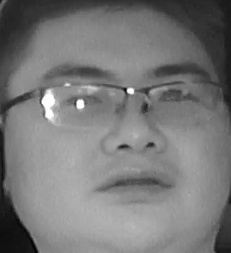glass: (43, 80, 129, 130), (145, 78, 227, 126)
mouth: (89, 164, 170, 203)
